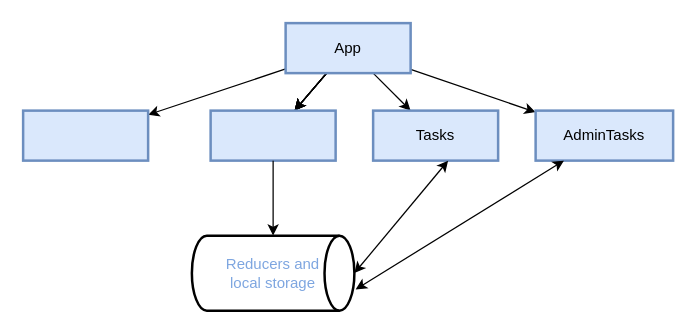
The diagram is 695 pixels wide and 333 high, and some of its shapes have lost their labels. Each missing label, with the centre of its shape:
Login: the point at 272,135
Signup: the point at 85,135
